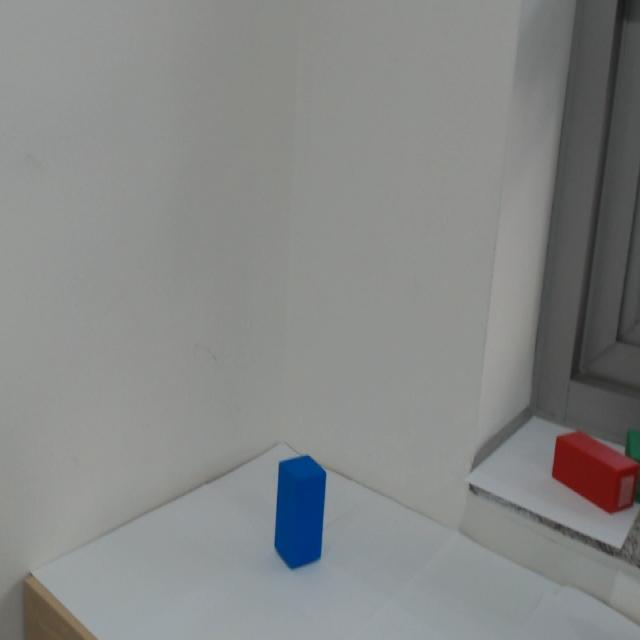cube: (259, 431, 346, 591)
